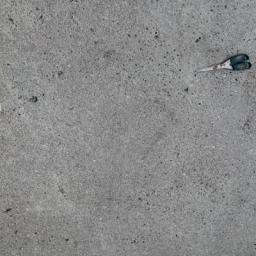FOD: (191, 54, 256, 76)
